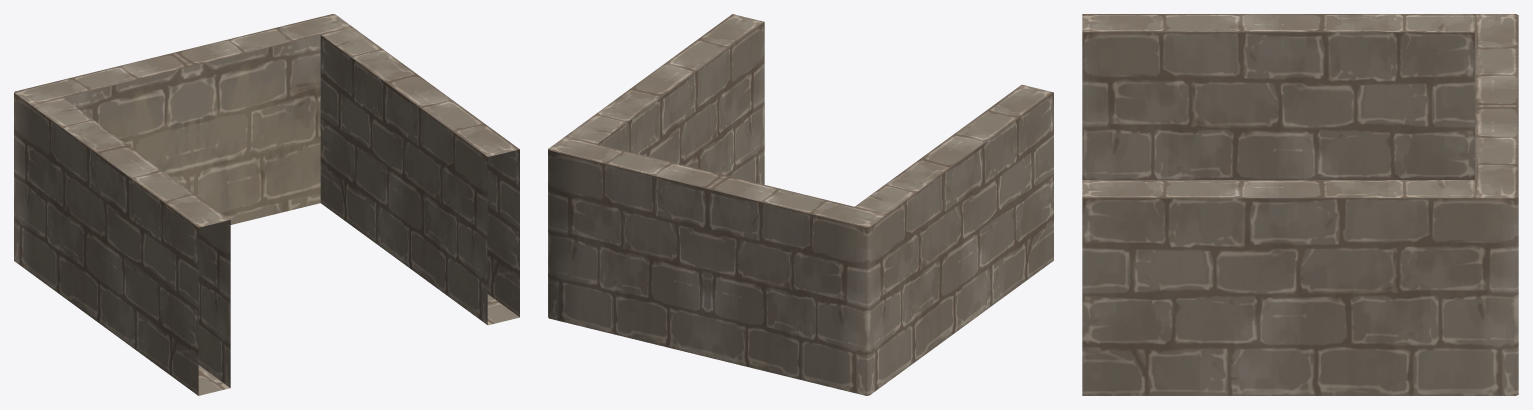
File: Stairs_Exterior_SidesU.glb
3 views of the same model, side by side, from view 1: azimuth 30°, elevation 25°; view 2: azimuth 150°, elevation 25°; view 3: azimuth 270°, elevation 25° (orthographic). The views are drawn at different scales.
Visible parts, largest first — view 1: Stairs_Exterior_SidesU; view 2: Stairs_Exterior_SidesU; view 3: Stairs_Exterior_SidesU.
Boxes of the visible parts, left/top/right/bottom form: Stairs_Exterior_SidesU: left=14, top=14, right=519, bottom=395; Stairs_Exterior_SidesU: left=548, top=14, right=1053, bottom=395; Stairs_Exterior_SidesU: left=1082, top=14, right=1518, bottom=395.
Bounding box in the file's own units: 2 × 0.9998 × 2.
1 material, 1 textured.
